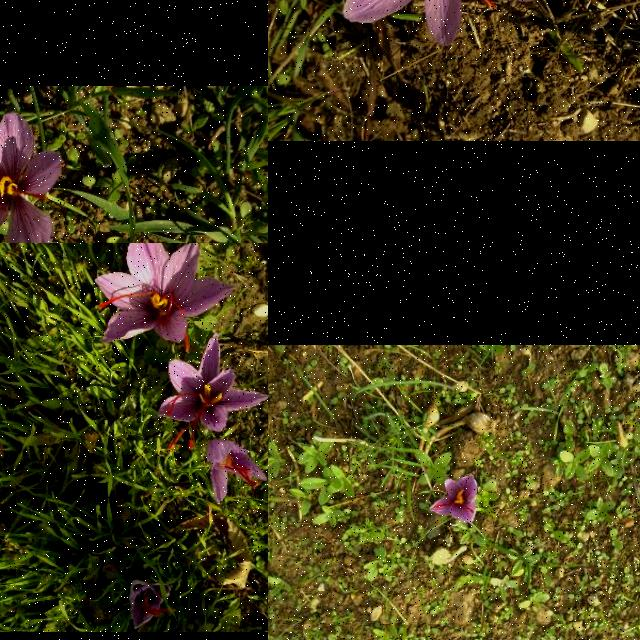flower: (95, 243, 239, 353), (157, 332, 268, 450), (344, 0, 544, 47), (0, 112, 63, 243), (206, 440, 268, 504), (430, 473, 478, 522), (130, 580, 174, 630)
